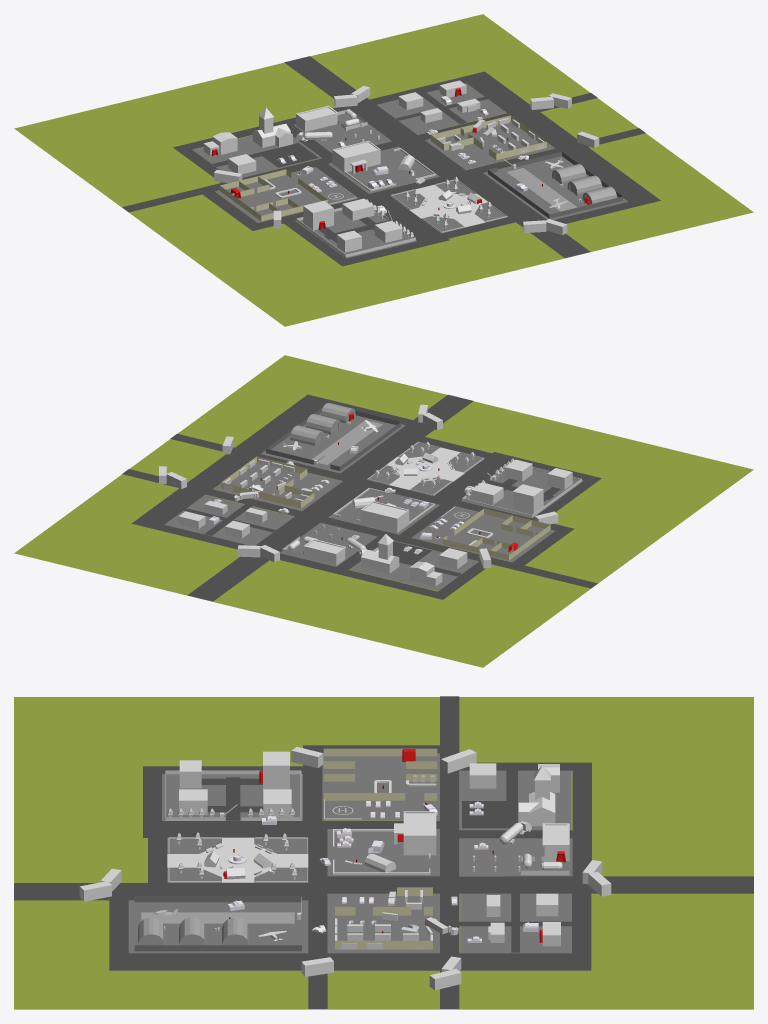
The model's file is Level_blocking.fbx.
3 renders of one model, top to bottom at view 1: azimuth 30°, elevation 25°; view 2: azimuth 150°, elevation 25°; view 3: azimuth 270°, elevation 25°, orthographic. The views are drawn at different scales.
Visible parts, largest first — view 1: Ground, Road.005, Road.001, Area_ground.005, Road.009, Road.002, Area_ground.013, Area_ground.008, Area_ground.017, Road, Area_ground.016, Walls (+19 smaller); view 2: Ground, Road.005, Road.001, Road.002, Area_ground.005, Road.009, Area_ground.008, Area_ground.013, Area_ground.017, Road, Walls, Cylinder.001 (+18 smaller); view 3: Ground, Road.005, Road.001, Area_ground.005, Road.002, Area_ground.008, Area_ground.013, Area_ground.017, Road.009, Road, Area_ground.016, Area_ground.002 (+38 smaller).
Boxes of the visible parts, x1,y1,x2,y2 form: Ground: [14, 14, 753, 326]; Road.005: [459, 71, 660, 206]; Road.001: [284, 56, 465, 176]; Area_ground.005: [215, 166, 357, 222]; Road.009: [458, 173, 590, 257]; Road.002: [122, 93, 597, 212]; Area_ground.013: [376, 83, 505, 134]; Area_ground.008: [483, 156, 627, 219]; Area_ground.017: [425, 121, 554, 169]; Road: [357, 128, 645, 200]; Area_ground.016: [328, 146, 439, 193]; Walls: [220, 169, 327, 221]; Ground: [14, 355, 753, 667]; Road.005: [132, 394, 333, 529]; Road.001: [187, 477, 373, 601]; Road.002: [122, 469, 597, 588]; Area_ground.005: [411, 506, 554, 562]; Road.009: [340, 394, 473, 479]; Area_ground.008: [261, 413, 405, 473]; Area_ground.013: [165, 495, 294, 545]; Area_ground.017: [213, 462, 342, 510]; Road: [170, 433, 458, 507]; Walls: [442, 508, 550, 560]; Cylinder.001: [386, 447, 464, 489]; Ground: [14, 697, 753, 1009]; Road.005: [109, 953, 591, 970]; Road.001: [327, 876, 753, 893]; Area_ground.005: [322, 753, 439, 820]; Road.002: [440, 696, 459, 1008]; Area_ground.008: [128, 900, 308, 953]; Area_ground.013: [460, 893, 571, 953]; Area_ground.017: [328, 893, 439, 953]; Road.009: [14, 883, 308, 900]; Road: [308, 821, 327, 1008]; Area_ground.016: [328, 829, 439, 876]; Area_ground.002: [459, 838, 572, 876].
Size of the model in its own units: 331 by 25.36 by 331.
